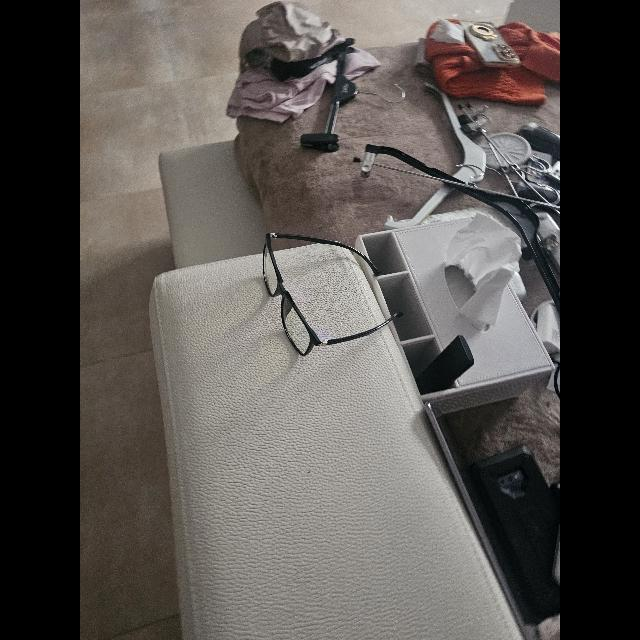glasses: (263, 232, 403, 356)
